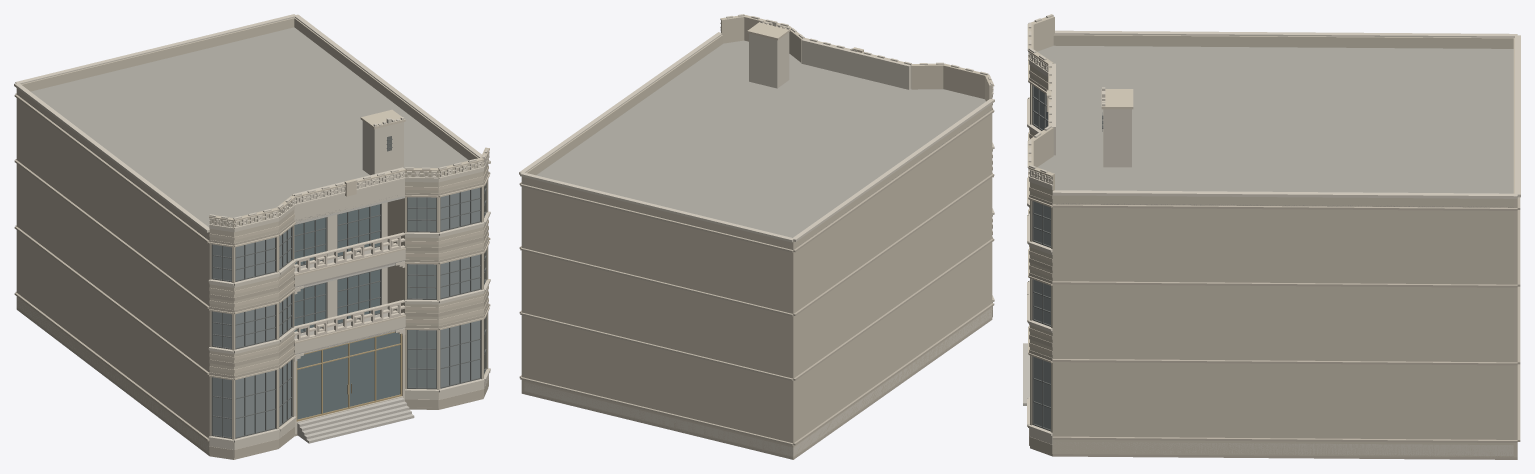
Rendered from jingan-pei-mansion-garden-front-lod.glb.
The picture shows the model from 3 angles, left to right: view 1: azimuth 30°, elevation 25°; view 2: azimuth 150°, elevation 25°; view 3: azimuth 270°, elevation 25°; orthographic projection. The views are drawn at different scales.
Visible parts, largest first — view 1: 贝宅花园侧主楼; view 2: 贝宅花园侧主楼; view 3: 贝宅花园侧主楼.
Boxes of the visible parts, x1,y1,x2,y2 form: 贝宅花园侧主楼: (14, 14, 490, 459); 贝宅花园侧主楼: (519, 14, 994, 459); 贝宅花园侧主楼: (1023, 14, 1520, 459).
Size of the model in its own units: 19.42 by 17.46 by 24.7.
